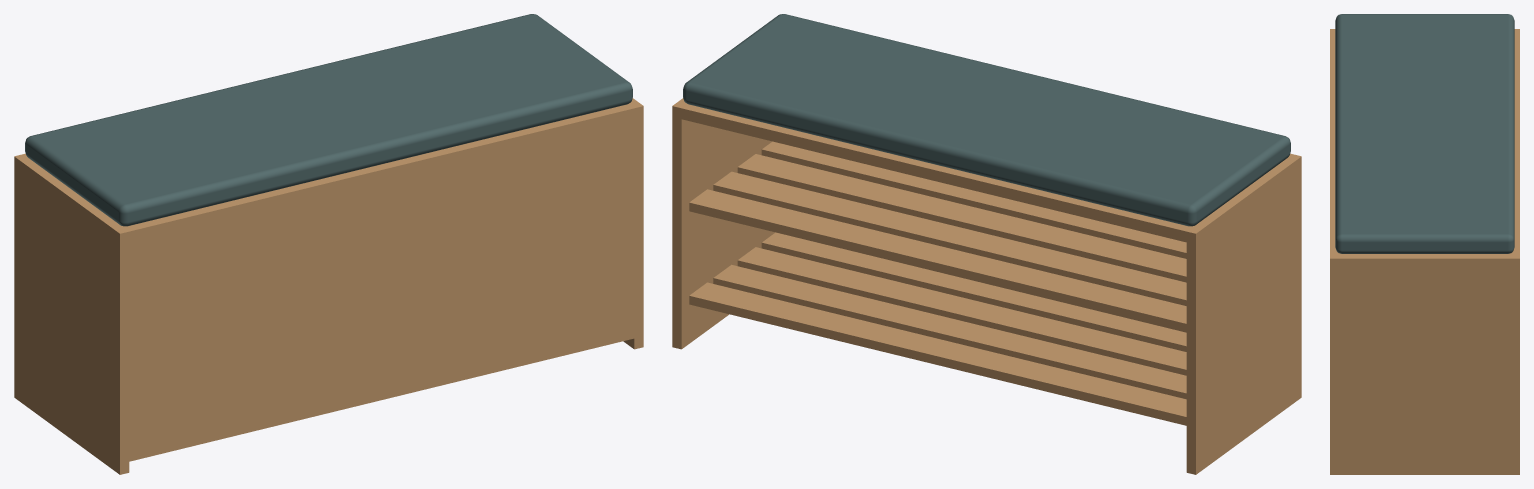
The picture shows the model from 3 angles, left to right: view 1: azimuth 30°, elevation 25°; view 2: azimuth 150°, elevation 25°; view 3: azimuth 270°, elevation 25°; orthographic projection. The views are drawn at different scales.
Visible parts, largest first — view 1: side-left, cushion; view 2: side-left, cushion; view 3: side-left, cushion.
Part boxes in pixels (left/top/right/bottom): side-left: left=14, top=98, right=643, bottom=474; cushion: left=25, top=14, right=632, bottom=226; side-left: left=672, top=98, right=1301, bottom=474; cushion: left=683, top=14, right=1290, bottom=226; side-left: left=1330, top=29, right=1519, bottom=474; cushion: left=1335, top=14, right=1514, bottom=253.
Bounding box in the file's own units: 1 × 0.48 × 0.35.
